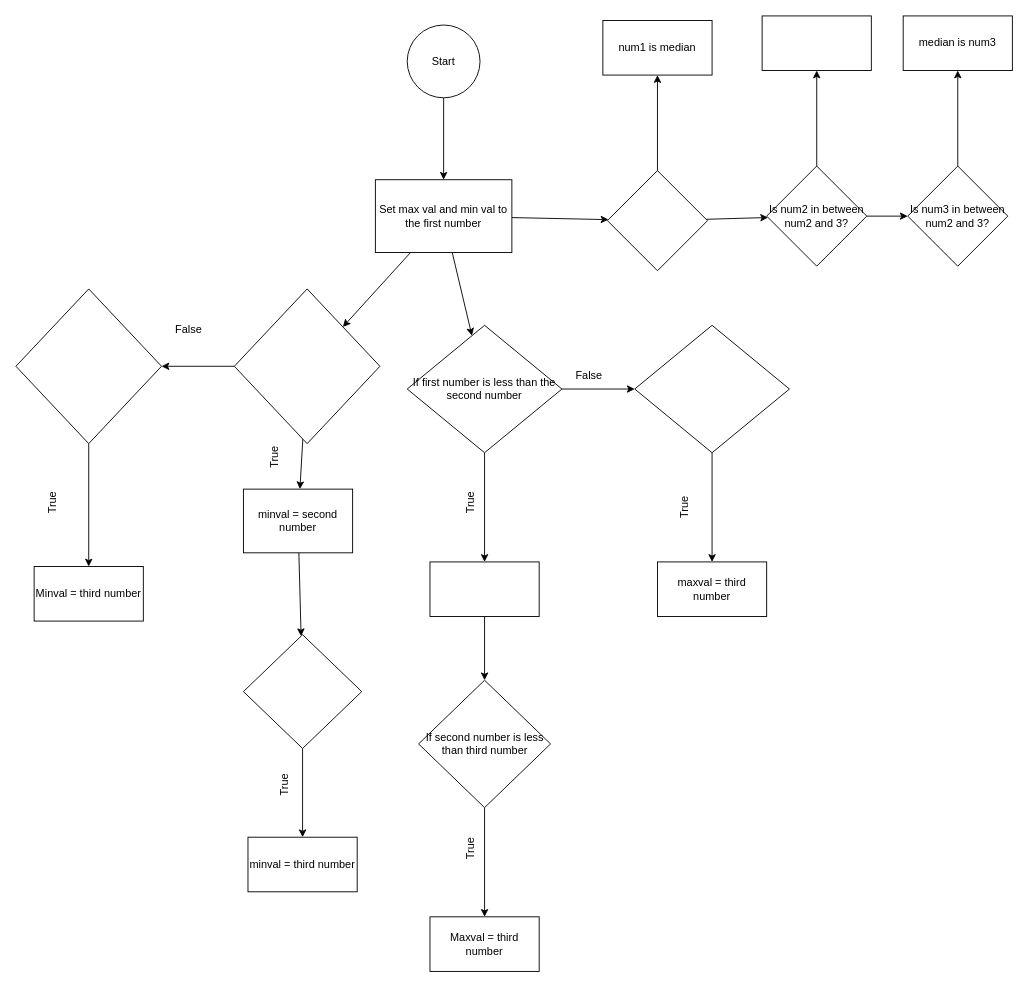
The diagram is 1028 pixels wide and 987 high, and some of its shapes have lost their labels. The box of each missing label's shape, as (x1, y1, x2, y2) in pixels:
if first number is greater than third number: (15, 288, 162, 444)
If first number is less than third number: (634, 324, 789, 453)
if the first number is greater than the second number: (233, 288, 380, 444)
if the second number is greater than the third number: (243, 634, 362, 748)
Is num1 in between num2 and 3?: (607, 170, 708, 271)
maxval = second number: (429, 561, 539, 617)
median is num2: (761, 15, 871, 71)
